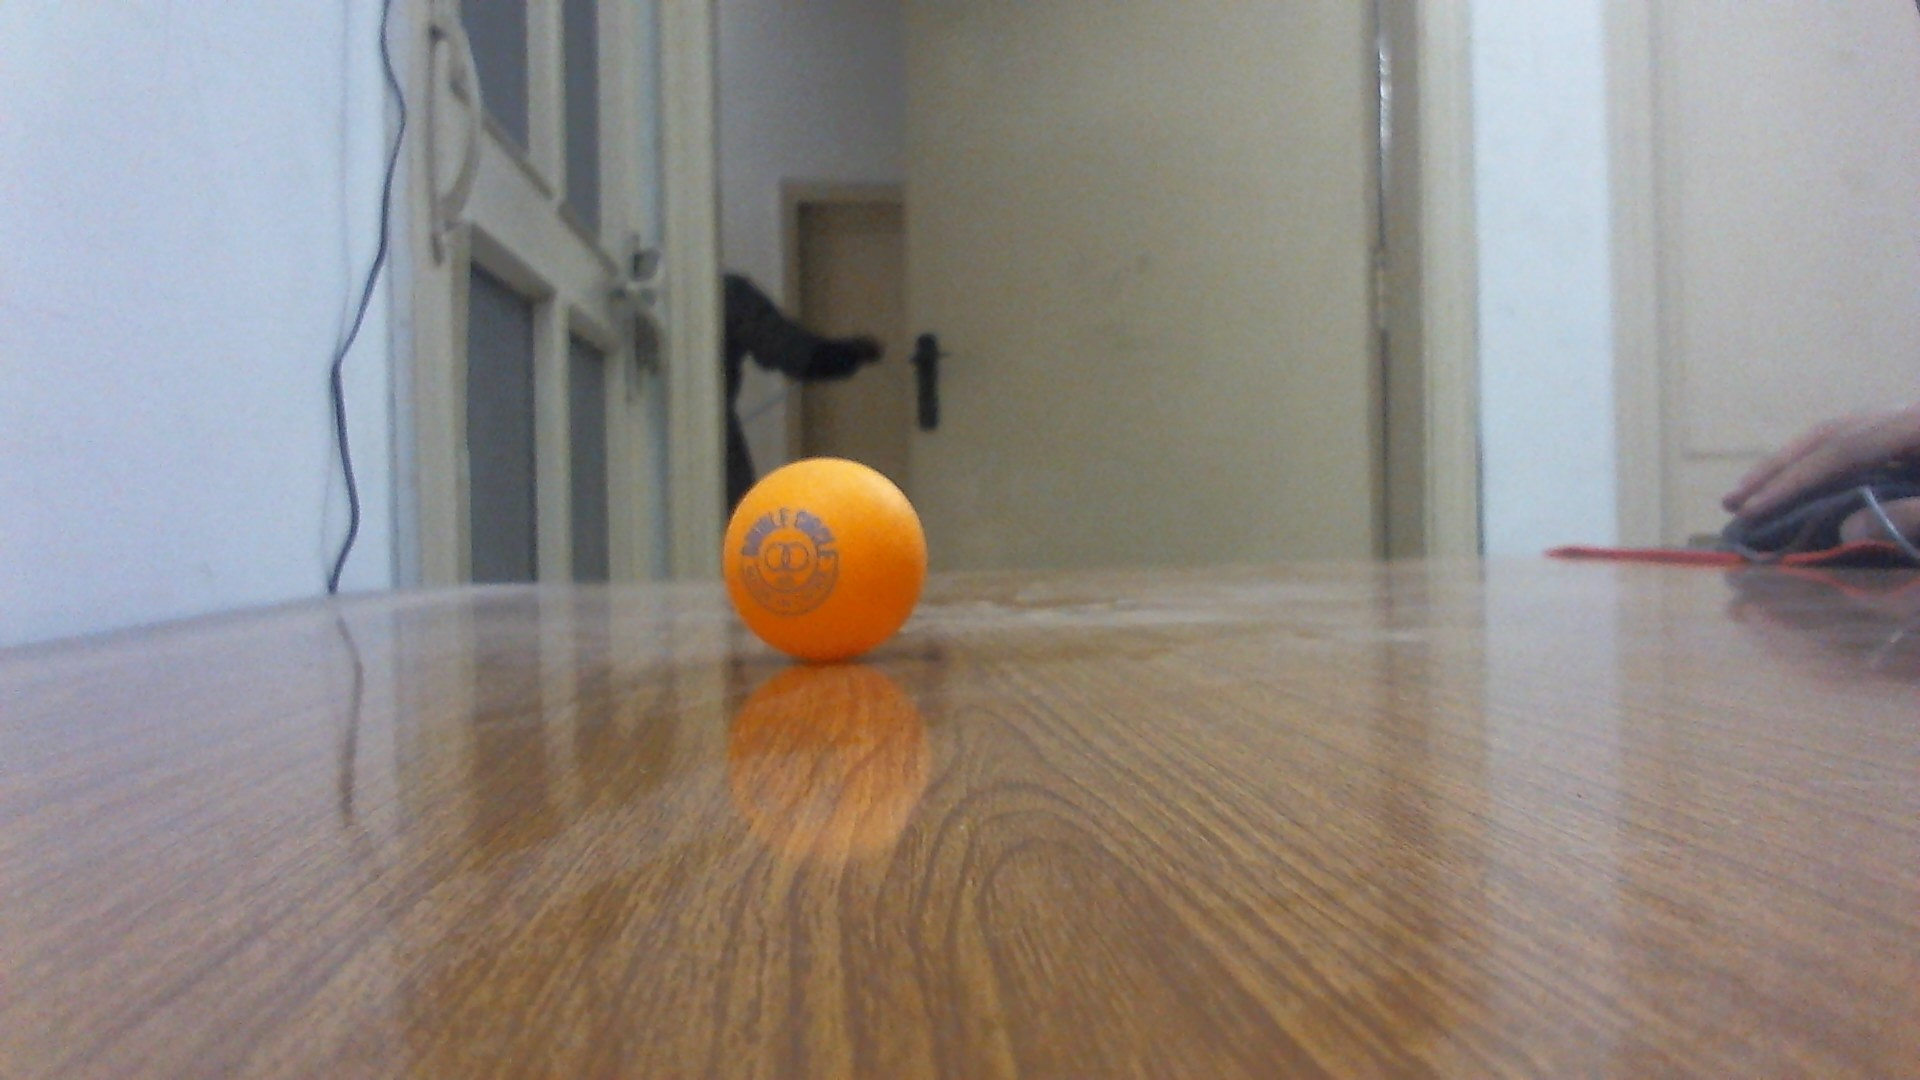ball: (723, 458, 928, 665)
